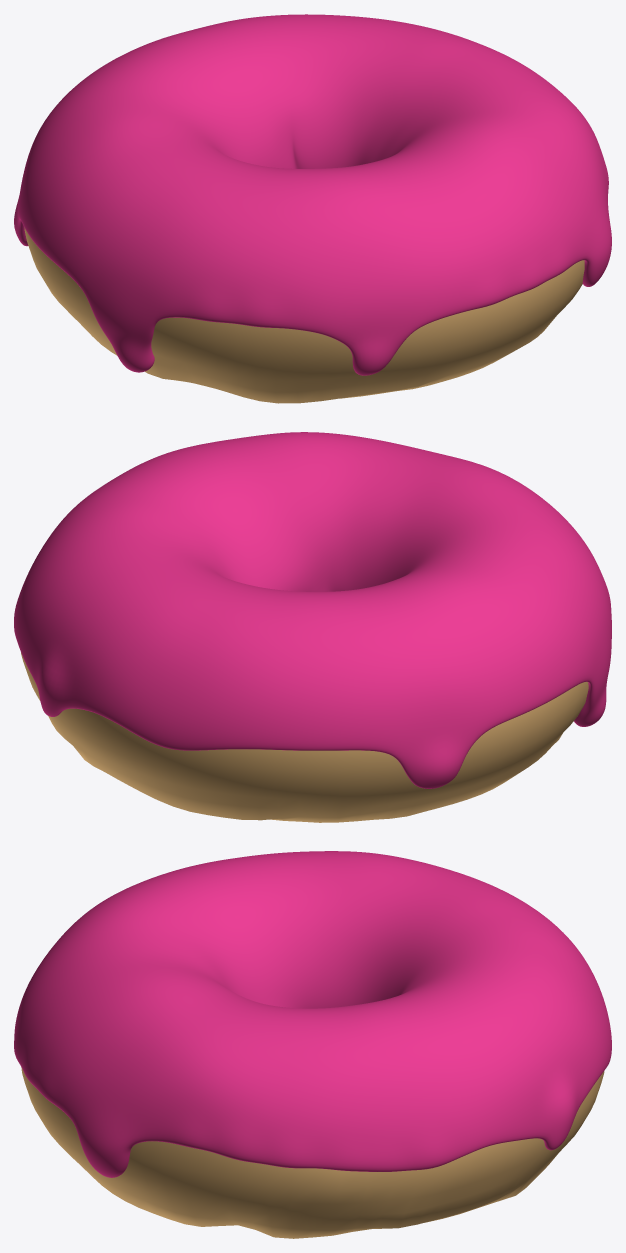
File: donut.glb
3 renders of one model, top to bottom at view 1: azimuth 30°, elevation 25°; view 2: azimuth 150°, elevation 25°; view 3: azimuth 270°, elevation 25°, orthographic.
Parts seen in each view (by area): view 1: Icing, Donut; view 2: Icing, Donut; view 3: Icing, Donut.
Boxes of the visible parts, x1,y1,x2,y2 form: Icing: (14, 14, 611, 375); Donut: (24, 227, 584, 403); Icing: (14, 432, 611, 788); Donut: (21, 653, 588, 822); Icing: (14, 851, 611, 1177); Donut: (21, 1067, 604, 1238).
Size of what is drawn, in the model's own units: 0.0913 by 0.0359 by 0.0914.
